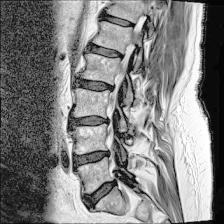disc: (102, 10, 141, 33)
hdisc: (82, 178, 123, 208), (70, 146, 116, 170), (85, 40, 129, 64), (77, 74, 119, 99), (72, 112, 112, 134)
